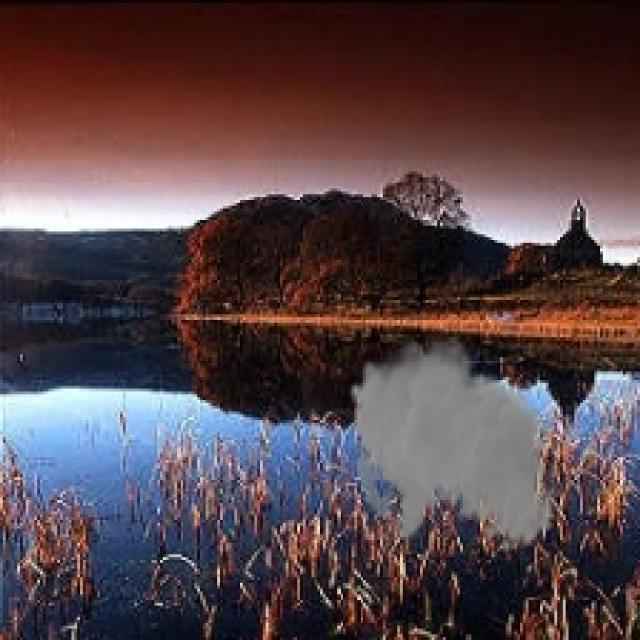Smoke: (348, 328, 554, 554)
